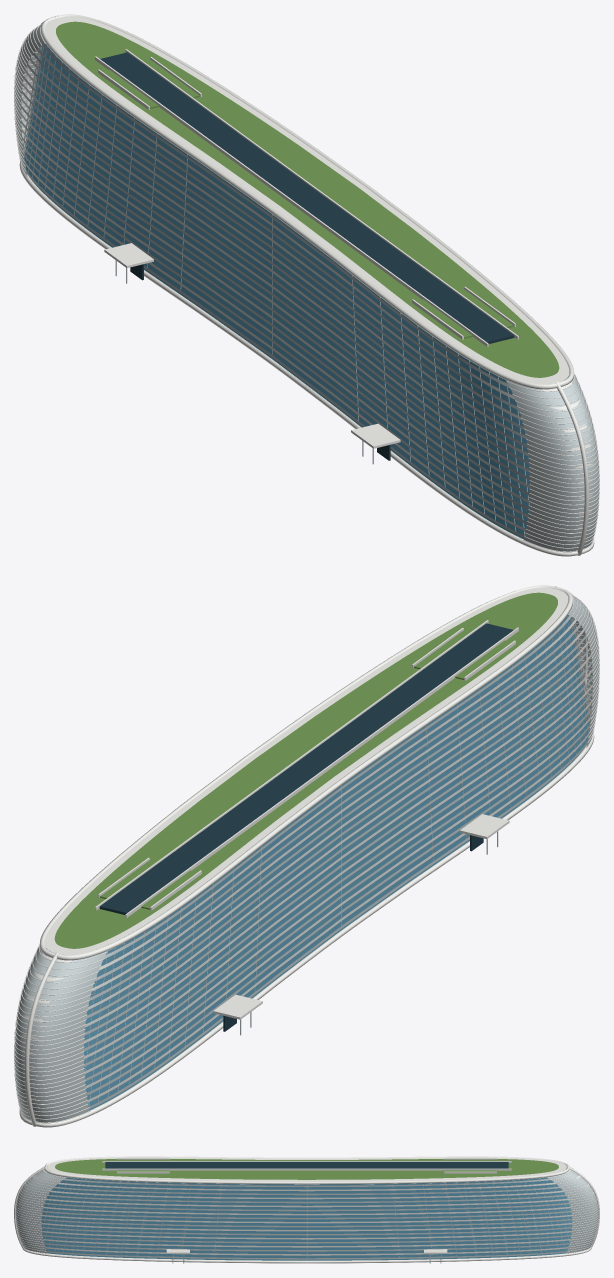
Rendered from slab-2.glb.
3 renders of one model, top to bottom at view 1: azimuth 30°, elevation 25°; view 2: azimuth 150°, elevation 25°; view 3: azimuth 270°, elevation 25°, orthographic. The views are drawn at different scales.
Bounding box in the file's own units: 3.5 × 3.93 × 25.06.
